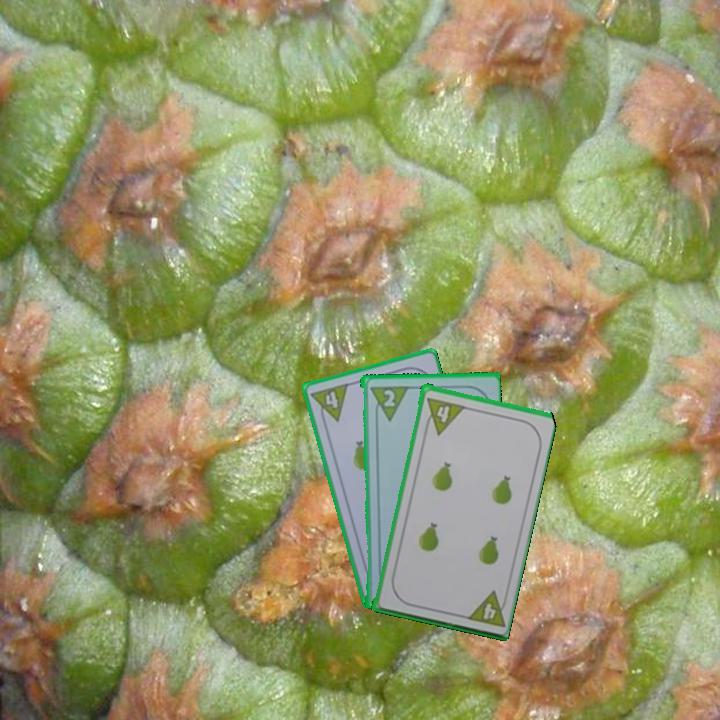2p: (380, 386, 398, 409)
4p: (461, 587, 511, 630), (307, 380, 351, 428), (421, 393, 467, 436)
